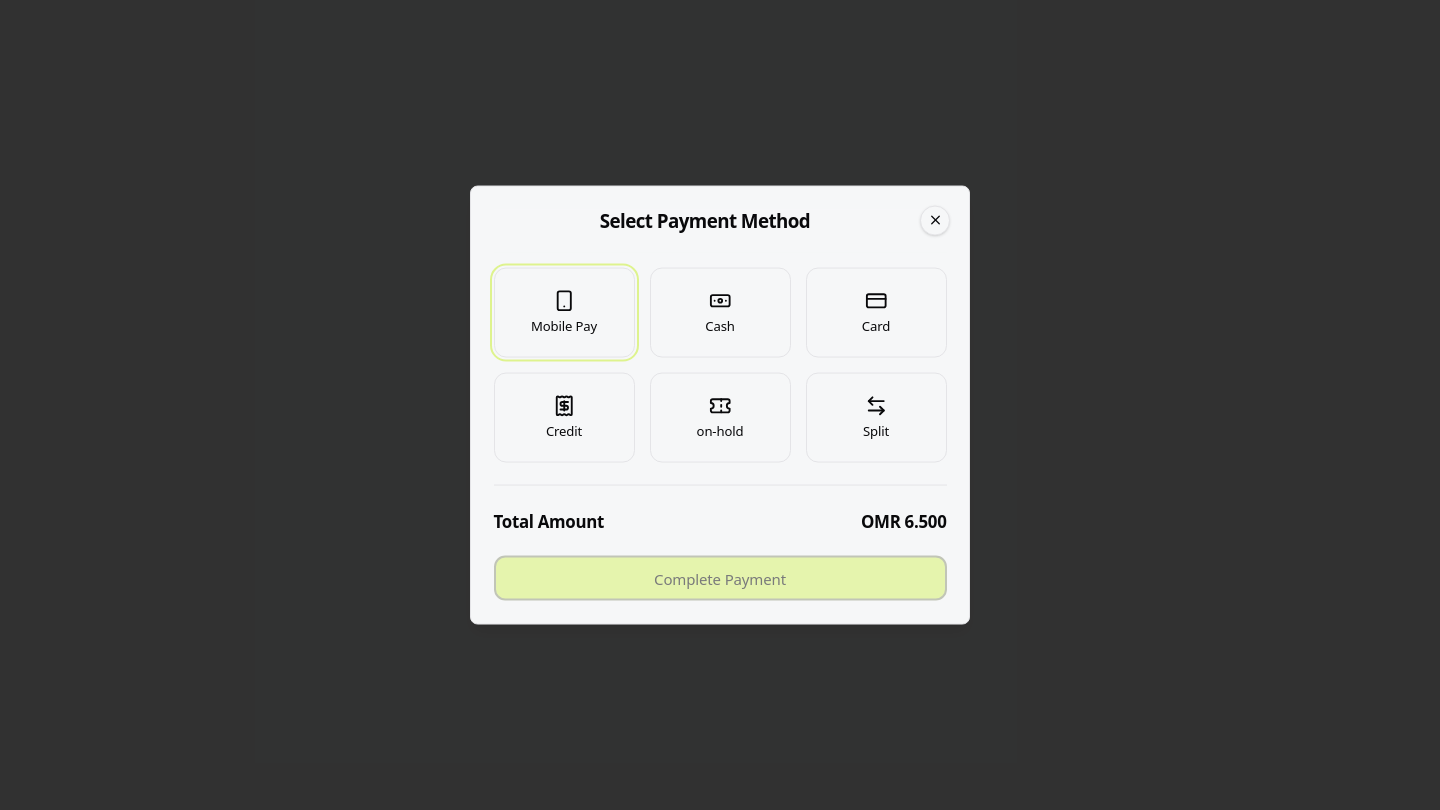
Test case: CheckoutModal - cash/card split › reveals cash and card amount inputs when split is selected
The width and height of the screenshot is (1440, 810).
Click the button "Split" at (876, 417), box [806,372,946,462]
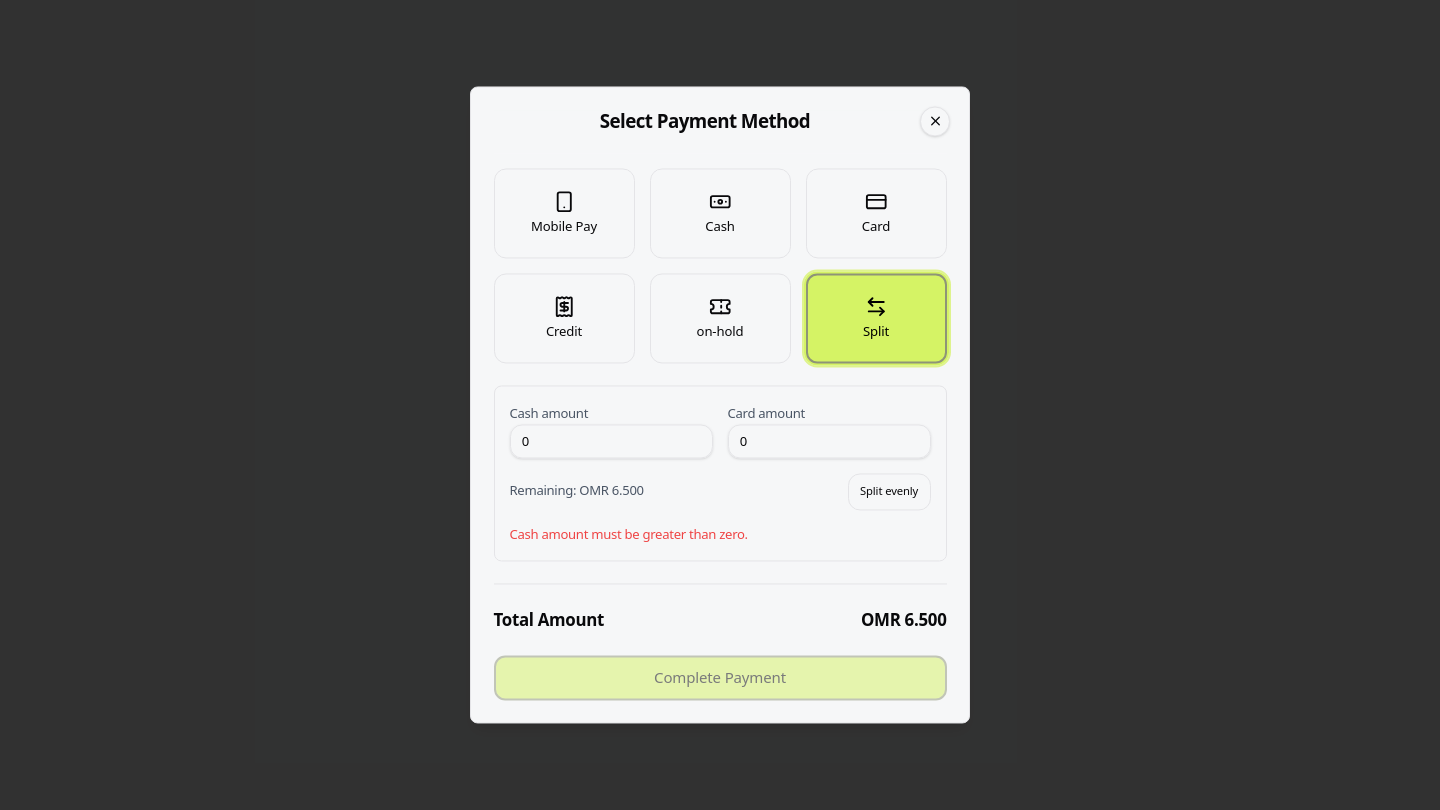
expect the number field labelled "Cash amount" is shown: met, box [510,424,712,458]
expect the number field labelled "Card amount" is shown: met, box [728,424,930,458]
